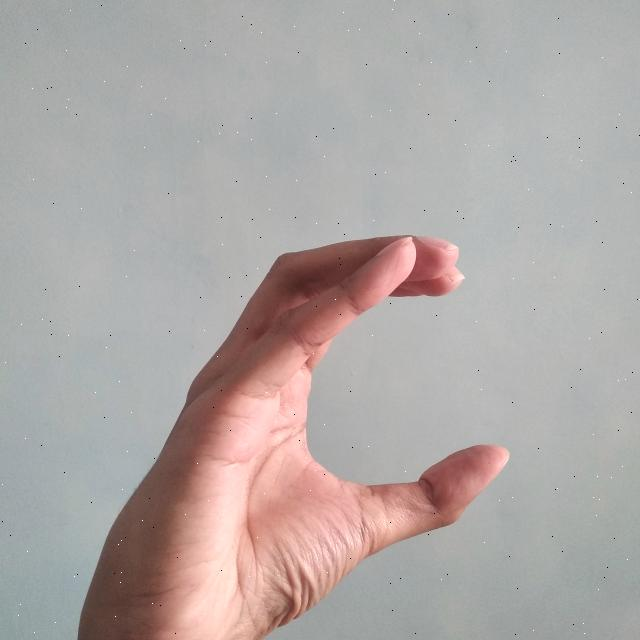C: (74, 235, 515, 640)
